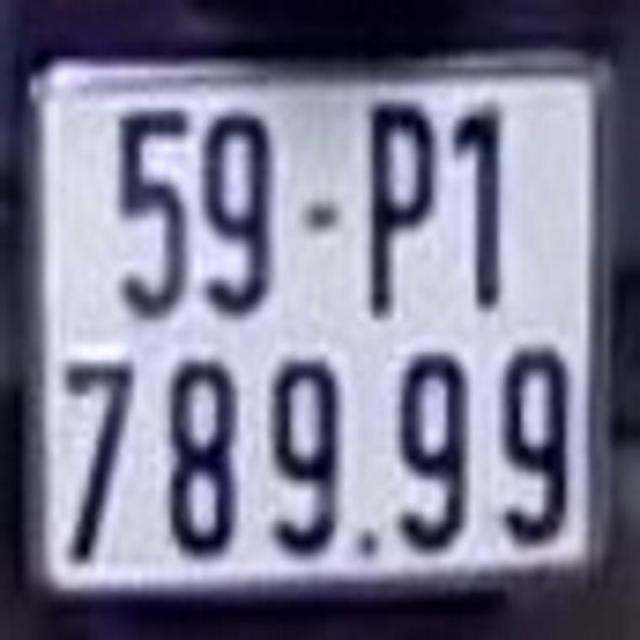1: (445, 82, 526, 312)
5: (111, 86, 189, 326)
7: (58, 332, 136, 566)
8: (158, 338, 248, 556)
9: (391, 322, 480, 561), (196, 88, 279, 328), (264, 327, 348, 562), (498, 319, 580, 540)
P: (357, 82, 442, 335)
